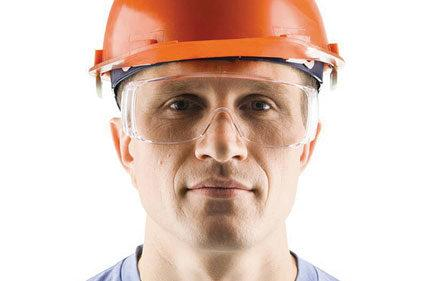helmet: (88, 1, 342, 80)
